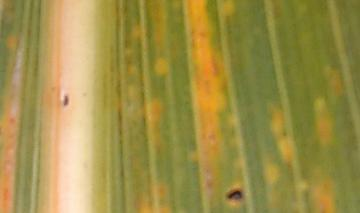tarspot: (227, 189, 241, 201), (62, 93, 69, 106)
